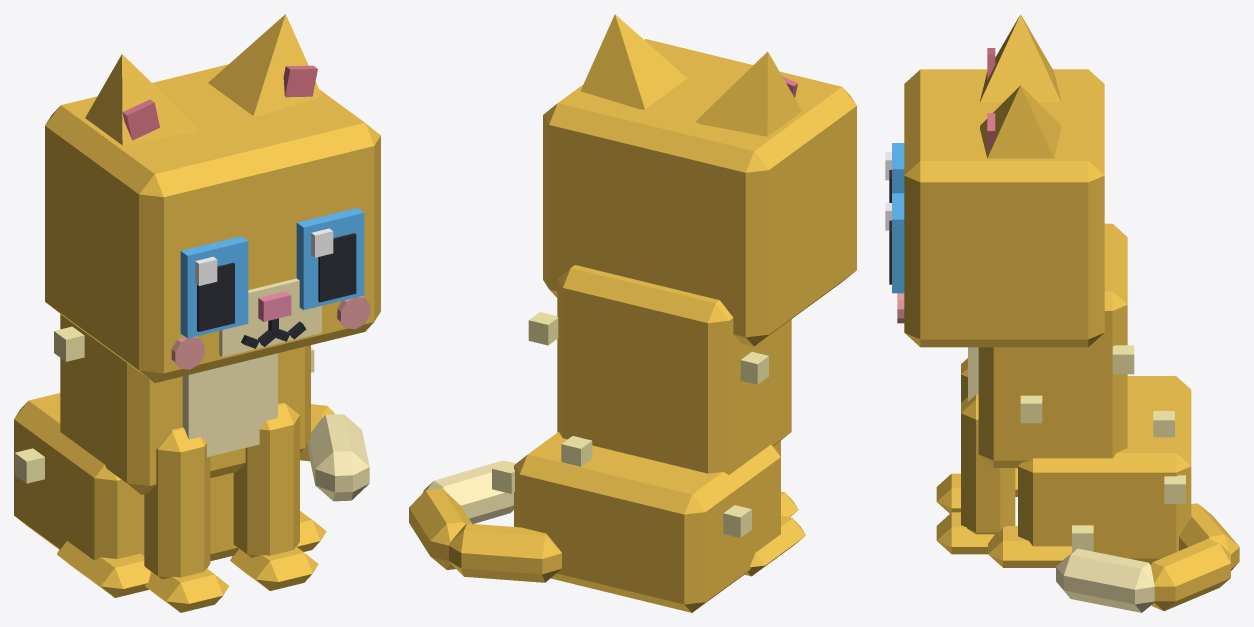
The model's file is CleanACat_Cat_Starcoat_Sit.fbx.
The picture shows the model from 3 angles, left to right: view 1: azimuth 30°, elevation 25°; view 2: azimuth 150°, elevation 25°; view 3: azimuth 270°, elevation 25°; orthographic projection. The views are drawn at different scales.
Visible parts, largest first — view 1: CleanACat_Cat_Starcoat_Sit_Head, CleanACat_Cat_Starcoat_Sit_Body, CleanACat_Cat_Starcoat_Sit_LegF2, CleanACat_Cat_Starcoat_Sit_LegF1, CleanACat_Cat_Starcoat_Sit_EarL, CleanACat_Cat_Starcoat_Sit_Eye2, CleanACat_Cat_Starcoat_Sit_Eye1, CleanACat_Cat_Starcoat_Sit_EarR, CleanACat_Cat_Starcoat_Sit_Tail; view 2: CleanACat_Cat_Starcoat_Sit_Body, CleanACat_Cat_Starcoat_Sit_Head, CleanACat_Cat_Starcoat_Sit_Tail, CleanACat_Cat_Starcoat_Sit_EarL, CleanACat_Cat_Starcoat_Sit_EarR; view 3: CleanACat_Cat_Starcoat_Sit_Head, CleanACat_Cat_Starcoat_Sit_Body, CleanACat_Cat_Starcoat_Sit_Tail, CleanACat_Cat_Starcoat_Sit_LegF1, CleanACat_Cat_Starcoat_Sit_EarL, CleanACat_Cat_Starcoat_Sit_EarR, CleanACat_Cat_Starcoat_Sit_Eye1, CleanACat_Cat_Starcoat_Sit_LegF2, CleanACat_Cat_Starcoat_Sit_Eye2.
Part boxes in pixels (x1,y1,x2,y2): CleanACat_Cat_Starcoat_Sit_Head: [45, 64, 380, 382]; CleanACat_Cat_Starcoat_Sit_Body: [14, 314, 326, 597]; CleanACat_Cat_Starcoat_Sit_LegF2: [144, 427, 228, 612]; CleanACat_Cat_Starcoat_Sit_LegF1: [230, 402, 318, 590]; CleanACat_Cat_Starcoat_Sit_EarL: [208, 14, 322, 116]; CleanACat_Cat_Starcoat_Sit_Eye2: [180, 236, 248, 338]; CleanACat_Cat_Starcoat_Sit_Eye1: [296, 208, 364, 310]; CleanACat_Cat_Starcoat_Sit_EarR: [85, 54, 199, 145]; CleanACat_Cat_Starcoat_Sit_Tail: [300, 404, 369, 501]; CleanACat_Cat_Starcoat_Sit_Body: [492, 265, 805, 612]; CleanACat_Cat_Starcoat_Sit_Head: [543, 39, 856, 346]; CleanACat_Cat_Starcoat_Sit_Tail: [409, 461, 561, 582]; CleanACat_Cat_Starcoat_Sit_EarL: [580, 14, 687, 109]; CleanACat_Cat_Starcoat_Sit_EarR: [695, 51, 801, 136]; CleanACat_Cat_Starcoat_Sit_Head: [897, 69, 1104, 347]; CleanACat_Cat_Starcoat_Sit_Body: [968, 223, 1191, 567]; CleanACat_Cat_Starcoat_Sit_Tail: [1056, 503, 1239, 612]; CleanACat_Cat_Starcoat_Sit_LegF1: [936, 394, 1015, 554]; CleanACat_Cat_Starcoat_Sit_EarL: [980, 85, 1061, 158]; CleanACat_Cat_Starcoat_Sit_EarR: [980, 14, 1061, 102]; CleanACat_Cat_Starcoat_Sit_Eye1: [885, 193, 904, 293]; CleanACat_Cat_Starcoat_Sit_LegF2: [936, 358, 967, 513]; CleanACat_Cat_Starcoat_Sit_Eye2: [885, 143, 904, 202].
Size of the model in its own units: 1.24 by 1.85 by 1.24.
Materials: 1 (1 with a texture image).
